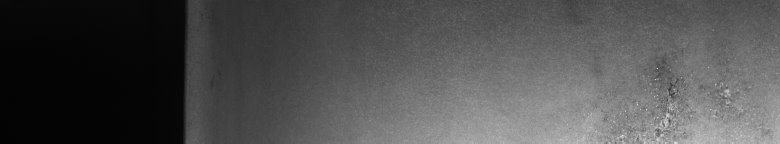hc: (620, 57, 739, 136)
